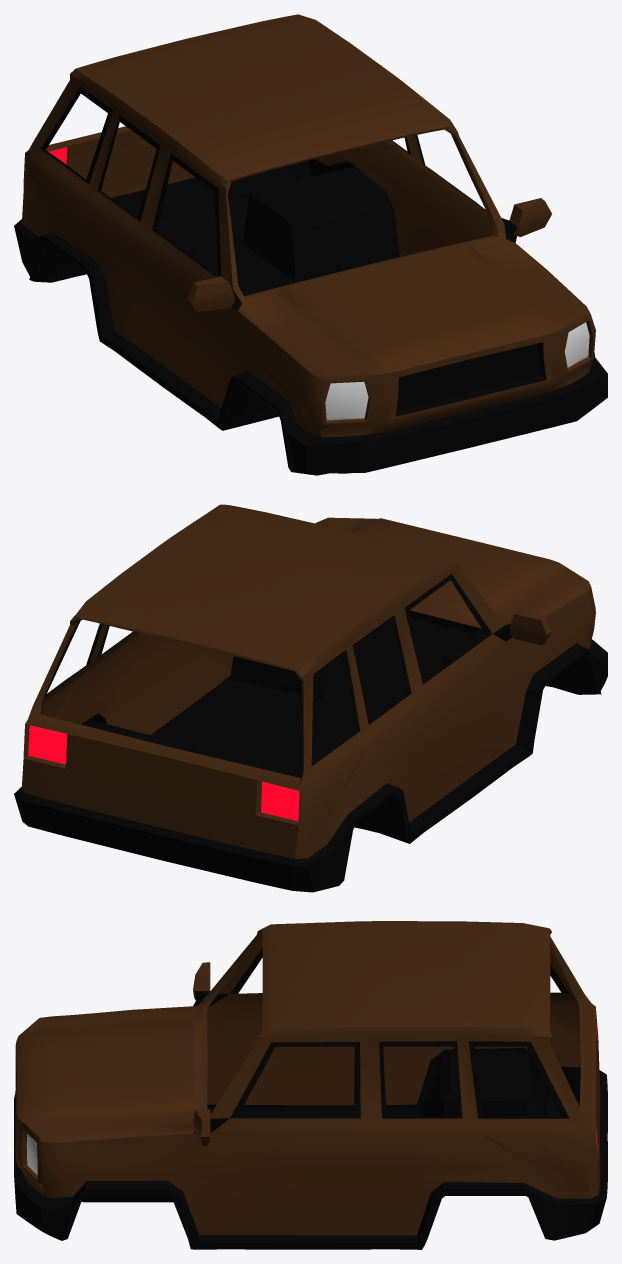
File: game_jam_car.fbx
3 renders of one model, top to bottom at view 1: azimuth 30°, elevation 25°; view 2: azimuth 150°, elevation 25°; view 3: azimuth 270°, elevation 25°, orthographic. The views are drawn at different scales.
Parts seen in each view (by area): view 1: Cube; view 2: Cube; view 3: Cube.
Part boxes in pixels (left/top/right/bottom): Cube: left=14, top=14, right=607, bottom=475; Cube: left=14, top=504, right=607, bottom=892; Cube: left=14, top=921, right=607, bottom=1249.
Bounding box in the file's own units: 1043 × 617 × 1591.
